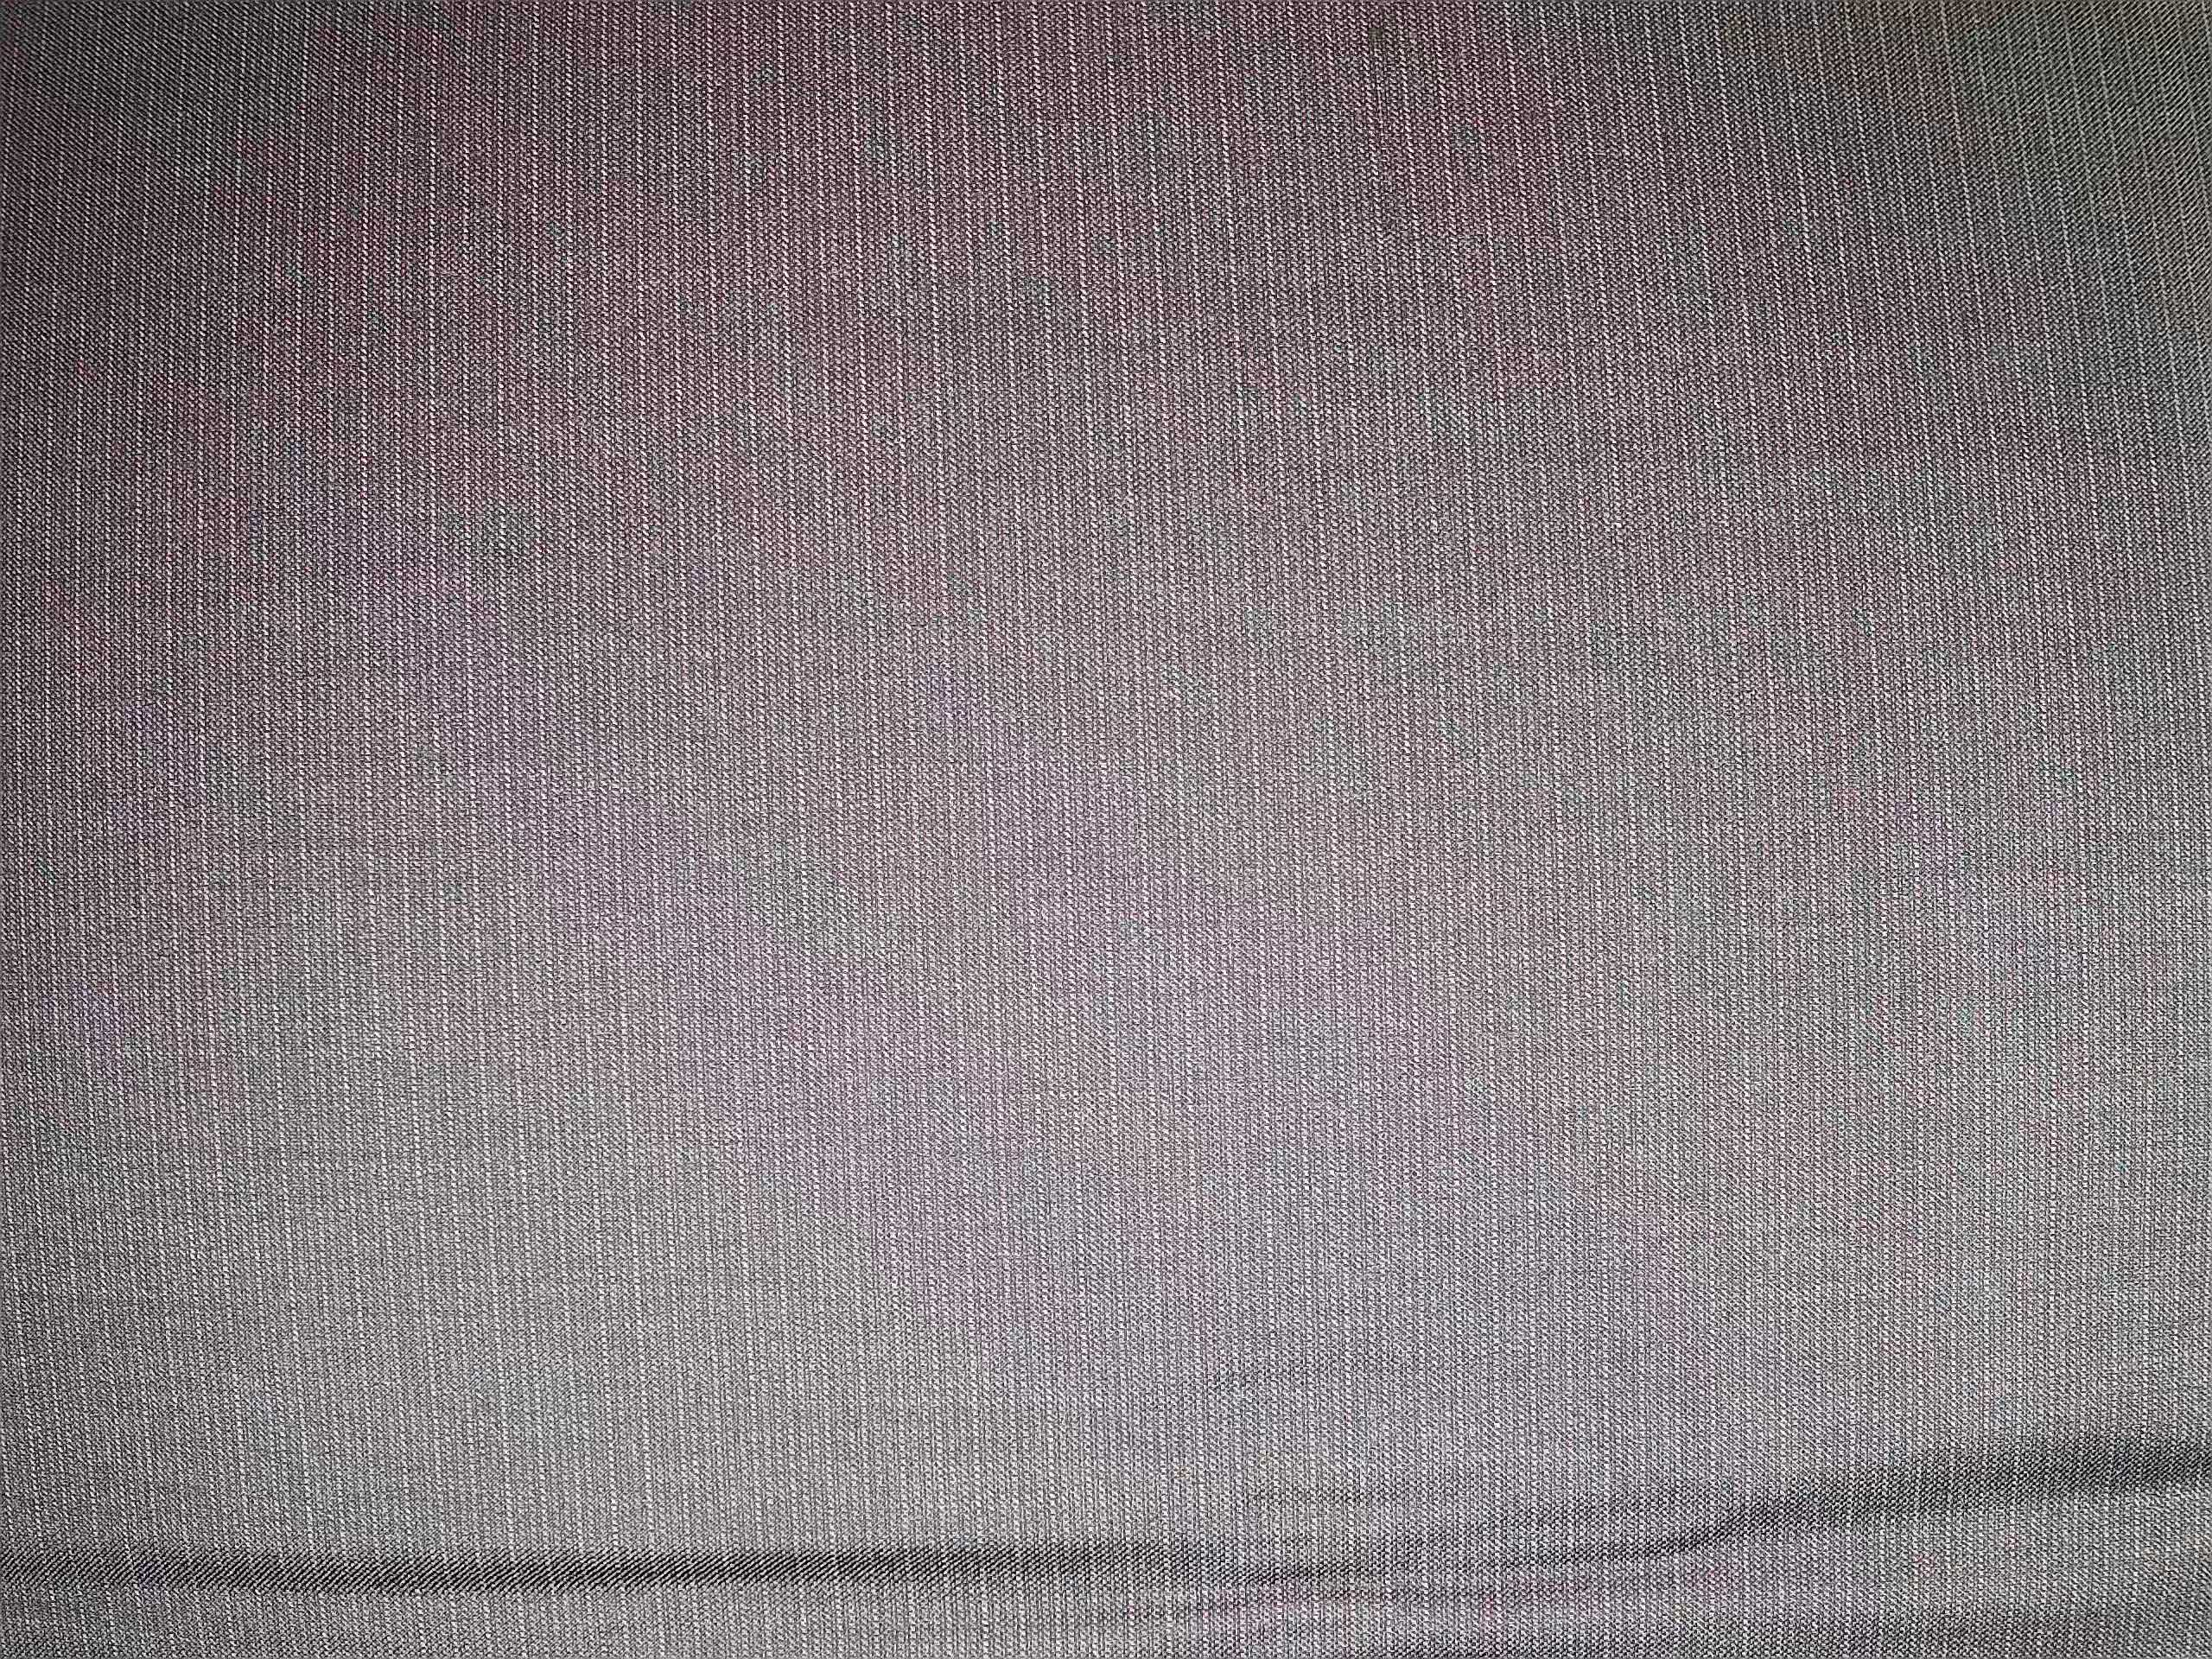jumps: (1359, 12, 1411, 249)
